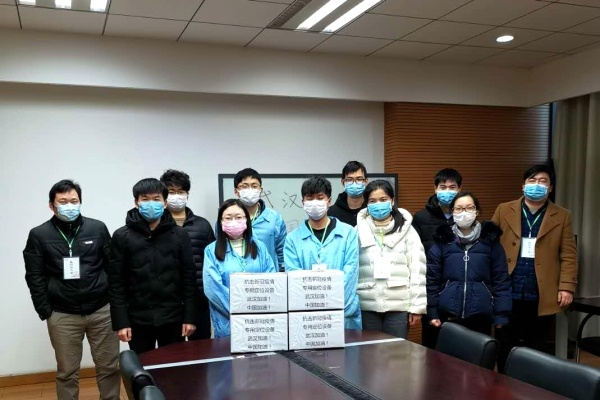correctlyWear: (301, 190, 333, 221), (218, 210, 251, 240), (362, 191, 395, 221), (135, 191, 167, 221), (522, 173, 554, 203), (48, 194, 83, 221), (164, 182, 190, 214), (235, 178, 263, 207), (434, 177, 463, 205), (452, 200, 480, 229), (341, 170, 368, 198)
